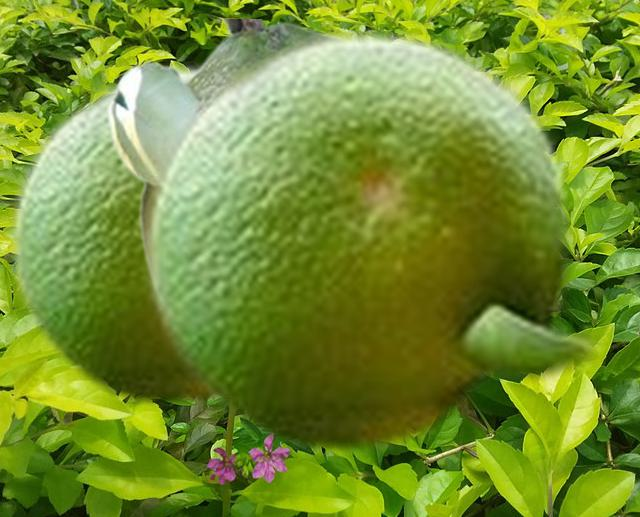dalandan: (138, 22, 604, 454), (5, 58, 207, 407), (104, 19, 321, 240)
